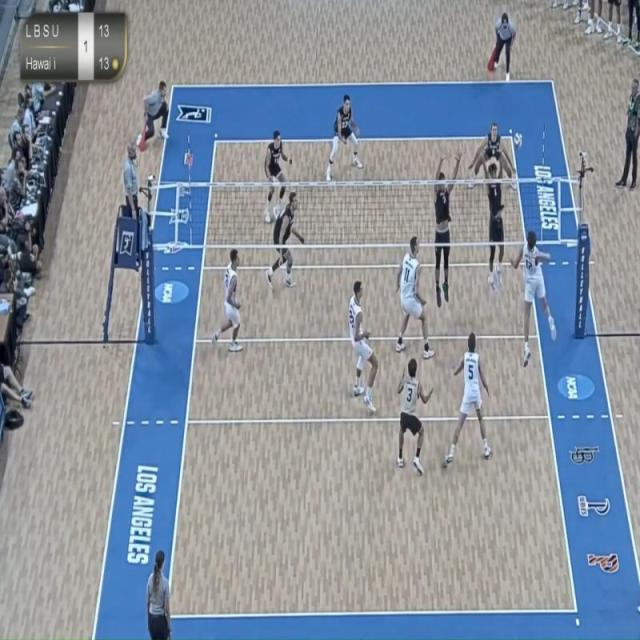volleyball: (510, 125, 526, 154)
